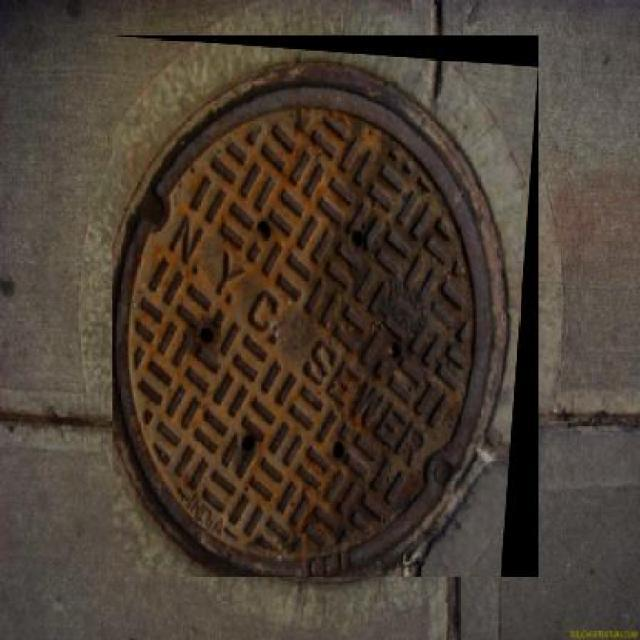Manhole: (112, 35, 538, 577)
